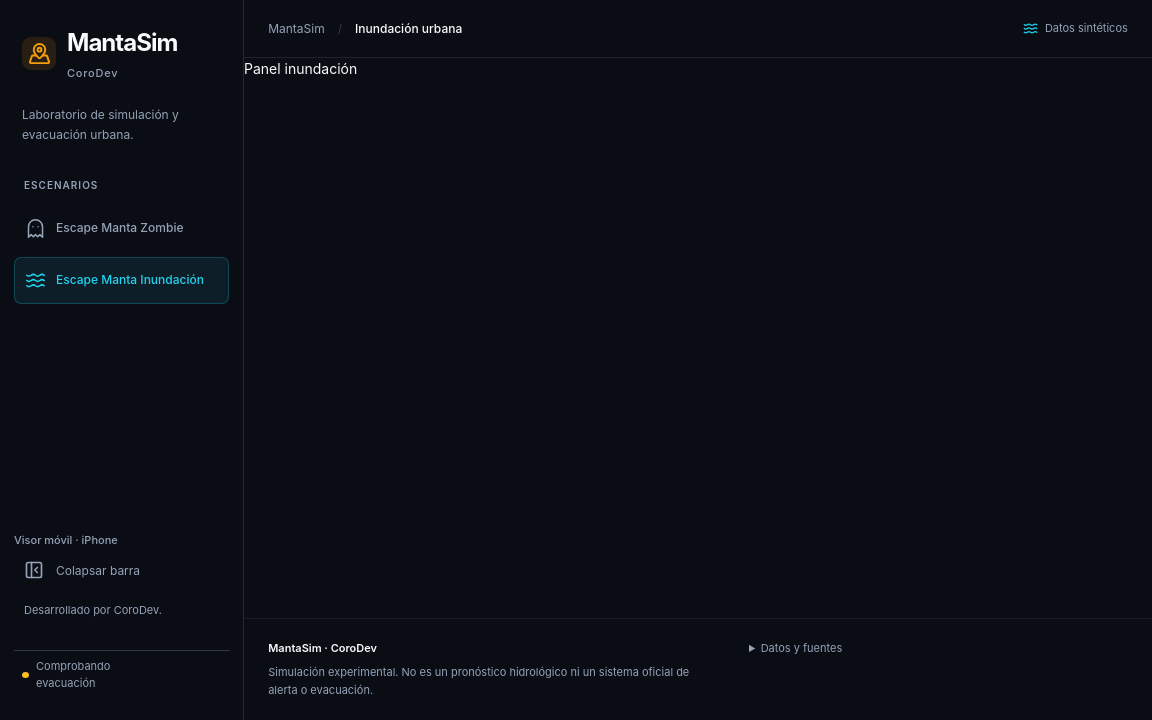
Scenario: shell MantaSim › navega directamente al laboratorio sin selector de escenarios ni consultas extra
The width and height of the screenshot is (1152, 720).
Click the link "Escape Manta Zombie" at coordinates (104, 228), box [25, 218, 184, 239]
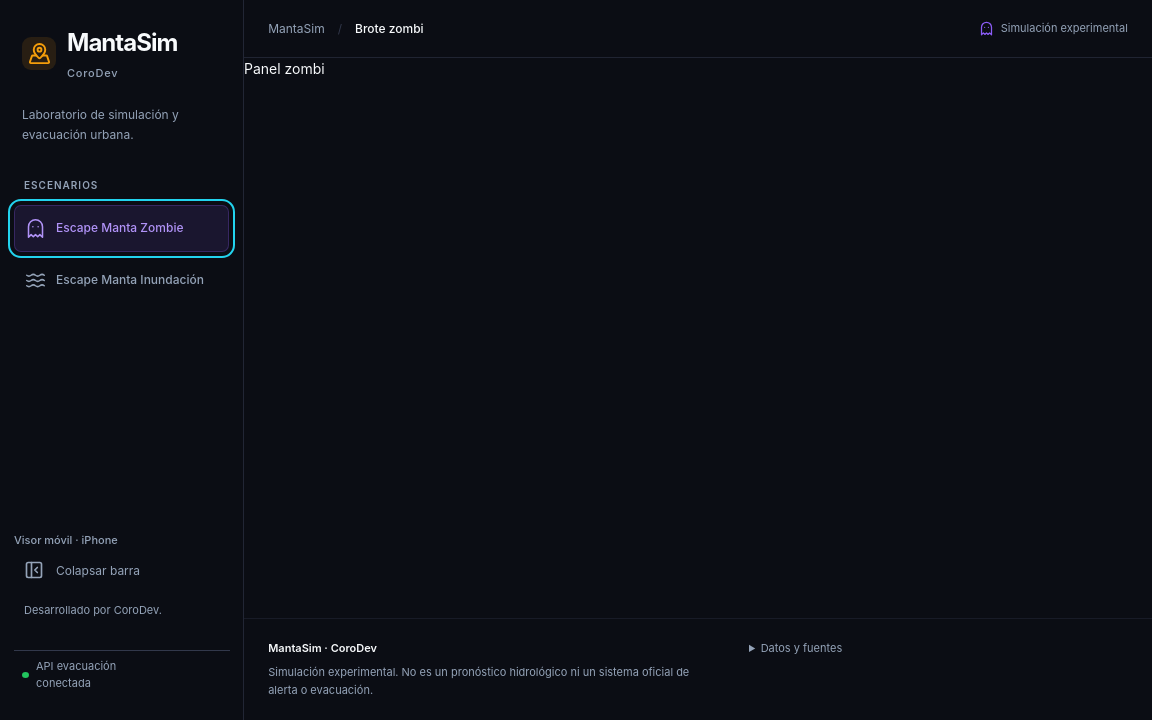
Check: the text "Panel zombi" is shown, box [244, 60, 325, 77]
